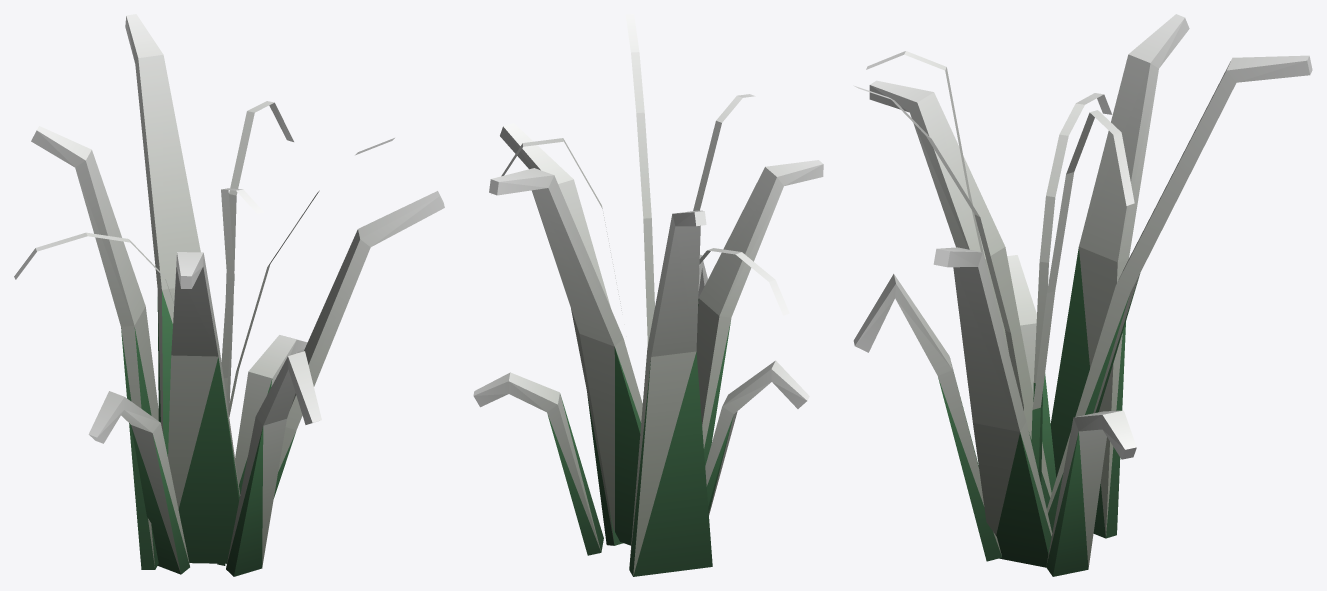
File: SnowGrass2.fbx
3 views of the same model, side by side, from view 1: azimuth 30°, elevation 25°; view 2: azimuth 150°, elevation 25°; view 3: azimuth 270°, elevation 25° (orthographic). The views are drawn at different scales.
Parts seen in each view (by area): view 1: SnowGrass2; view 2: SnowGrass2; view 3: SnowGrass2.
Boxes of the visible parts, x1,y1,x2,y2 form: SnowGrass2: [14, 14, 444, 576]; SnowGrass2: [473, 14, 823, 576]; SnowGrass2: [853, 14, 1312, 576].
Size of the model in its own units: 146 by 179 by 142.
